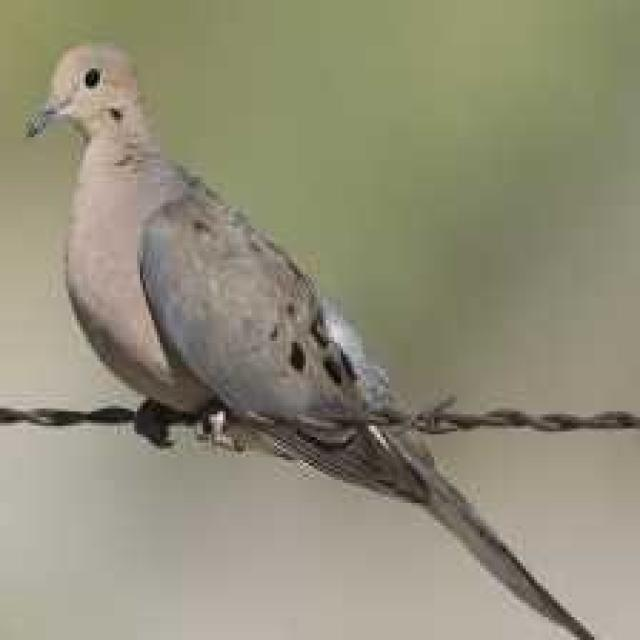dove: (17, 37, 603, 640)
